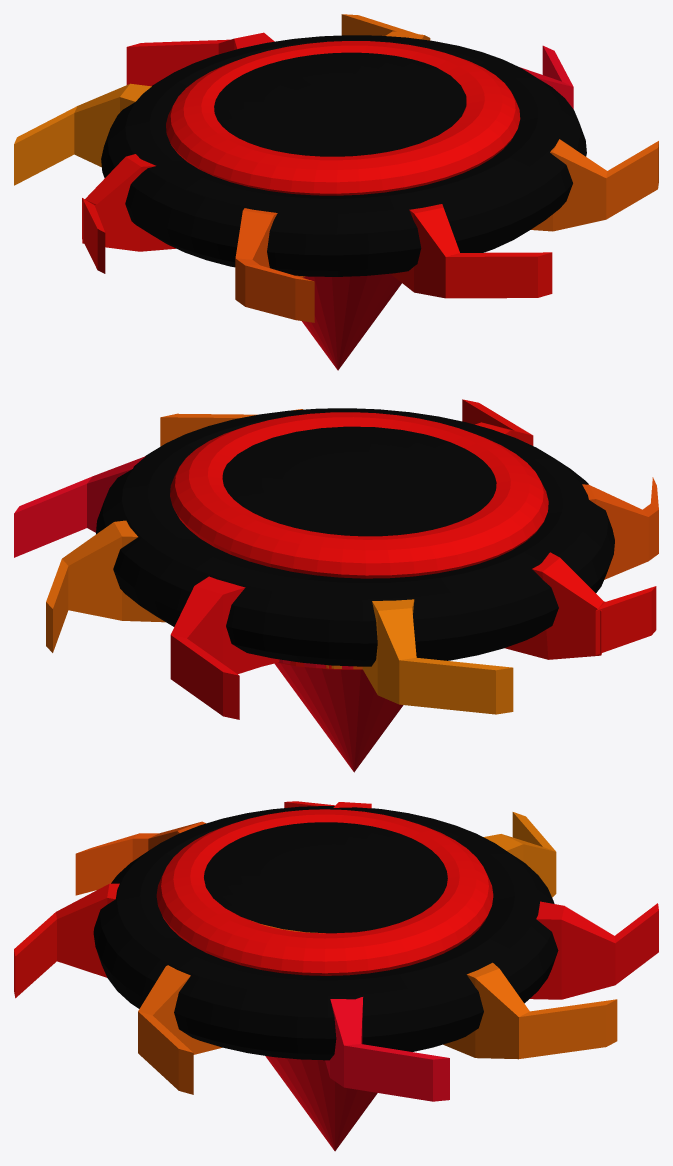
Rendered from Beyblade_1.2.fbx.
3 views of the same model, one above another, from view 1: azimuth 30°, elevation 25°; view 2: azimuth 150°, elevation 25°; view 3: azimuth 270°, elevation 25° (orthographic). The views are drawn at different scales.
Visible parts, largest first — view 1: Torus, Torus.001, Sphere, Tělo3, Tělo3.001, Tělo3.004, Cone, Tělo2, Tělo1, Tělo3.005, Tělo3.003, Tělo3.002; view 2: Torus, Torus.001, Sphere, Tělo3.004, Tělo1, Tělo3.005, Cone, Tělo3.003, Tělo3.002, Tělo2, Tělo3.001, Tělo3; view 3: Torus, Torus.001, Sphere, Tělo3.003, Tělo3.005, Tělo3.002, Tělo3, Tělo3.001, Cone, Tělo2, Tělo3.004.
Part boxes in pixels (left/top/right/bottom): Torus: left=101, top=35, right=586, bottom=276; Torus.001: left=166, top=41, right=520, bottom=195; Sphere: left=214, top=52, right=466, bottom=156; Tělo3: left=390, top=204, right=552, bottom=298; Tělo3.001: left=531, top=139, right=658, bottom=231; Tělo3.004: left=14, top=83, right=151, bottom=185; Cone: left=302, top=273, right=401, bottom=370; Tělo2: left=235, top=208, right=314, bottom=322; Tělo1: left=82, top=154, right=175, bottom=273; Tělo3.005: left=126, top=32, right=274, bottom=86; Tělo3.003: left=341, top=14, right=430, bottom=40; Tělo3.002: left=520, top=45, right=573, bottom=108; Torus: left=96, top=408, right=614, bottom=666; Torus.001: left=170, top=412, right=548, bottom=578; Sphere: left=222, top=426, right=496, bottom=536; Tělo3.004: left=362, top=599, right=513, bottom=714; Tělo1: left=278, top=552, right=656, bottom=669; Tělo3.005: left=170, top=576, right=279, bottom=719; Cone: left=274, top=662, right=403, bottom=772; Tělo3.003: left=46, top=520, right=341, bottom=668; Tělo3.002: left=14, top=456, right=353, bottom=669; Tělo2: left=326, top=477, right=658, bottom=669; Tělo3.001: left=160, top=409, right=302, bottom=446; Tělo3: left=462, top=399, right=533, bottom=445; Torus: left=93, top=806, right=558, bottom=1060; Torus.001: left=156, top=809, right=493, bottom=975; Sphere: left=204, top=822, right=447, bottom=933; Tělo3.003: left=253, top=921, right=617, bottom=1059; Tělo3.005: left=530, top=901, right=658, bottom=999; Tělo3.002: left=325, top=997, right=449, bottom=1101; Tělo3: left=14, top=883, right=324, bottom=998; Tělo3.001: left=138, top=924, right=316, bottom=1094; Cone: left=265, top=1056, right=377, bottom=1151; Tělo2: left=75, top=821, right=304, bottom=932; Tělo3.004: left=290, top=812, right=556, bottom=933.
Bounding box in the file's own units: 508 × 252 × 534.
